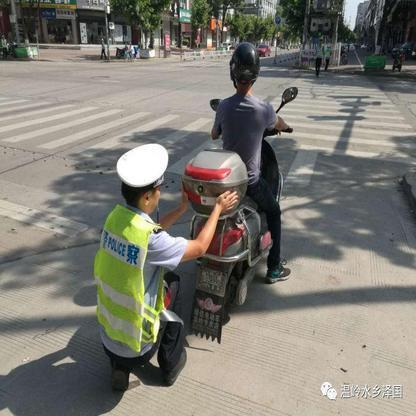target: (185, 39, 306, 342)
